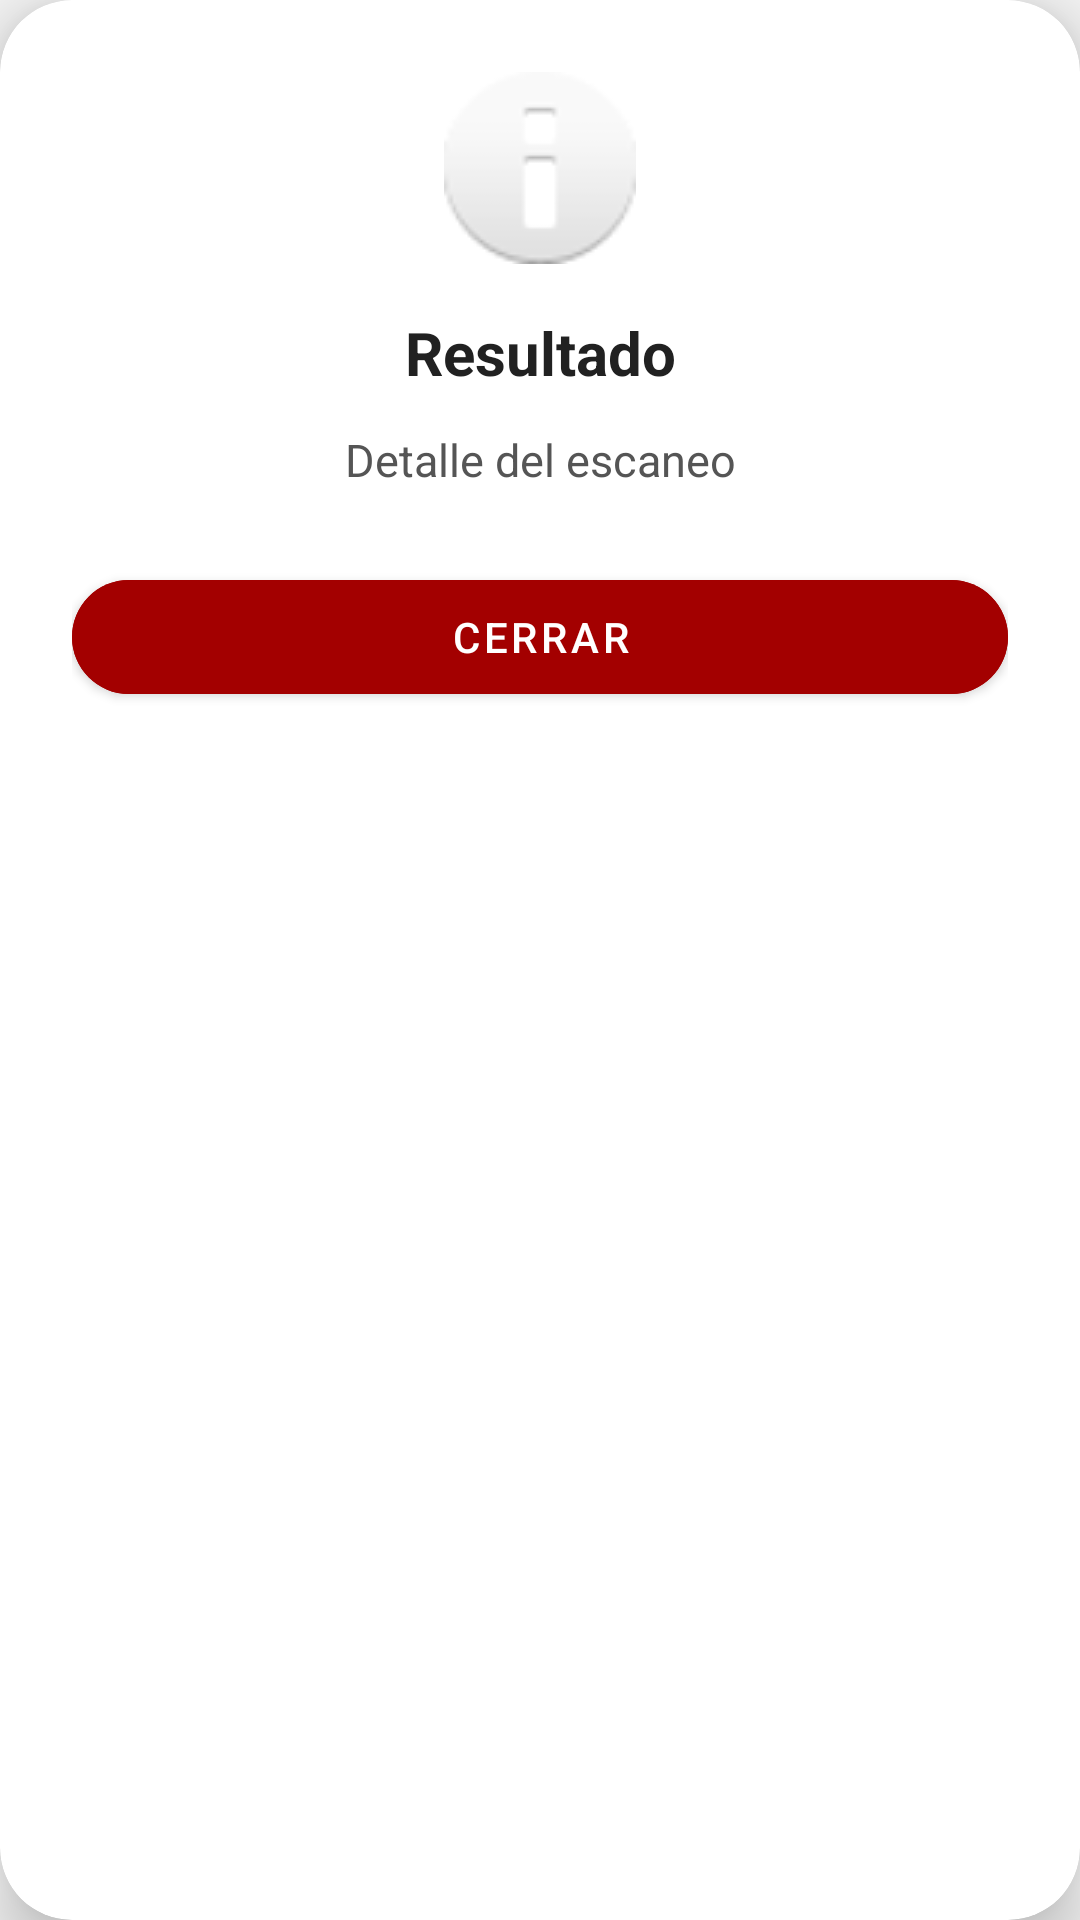

Icon bounding boxes for this 1080 x 1920 phone screenshot, format detection(x1, y1, x2, y2):
info: detection(444, 107, 636, 264)
